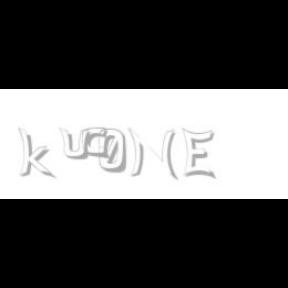0: (98, 128, 130, 174)
E: (182, 128, 214, 180)
N: (128, 128, 176, 180)
c: (82, 128, 110, 160)
k: (18, 128, 56, 180)
u: (58, 128, 94, 160)
